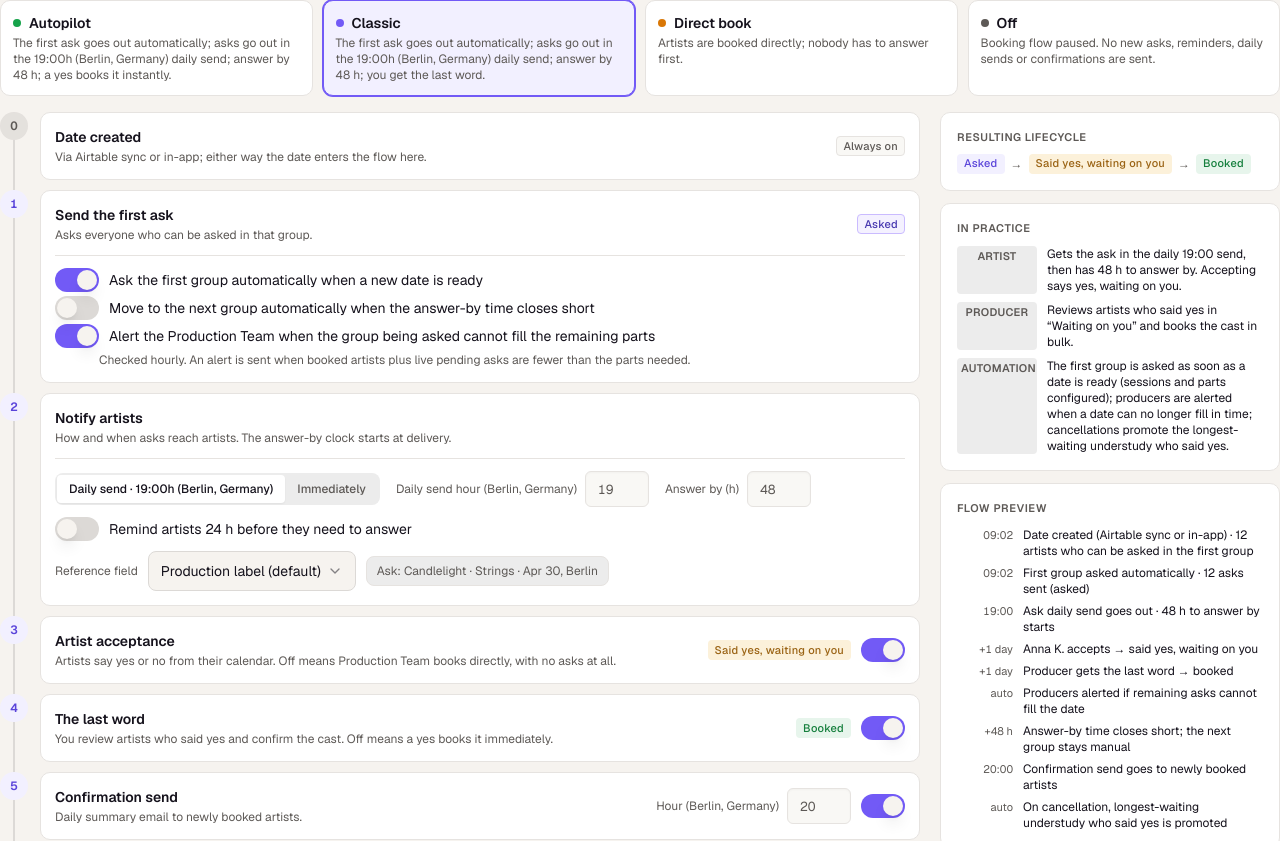
Test: BookingFlowTab › a preset's producer_confirmation choice survives an acceptance off/on round trip
Click the button "Autopilot" at x=156, y=48, box top-left (0, 0), bottom-right (312, 96)
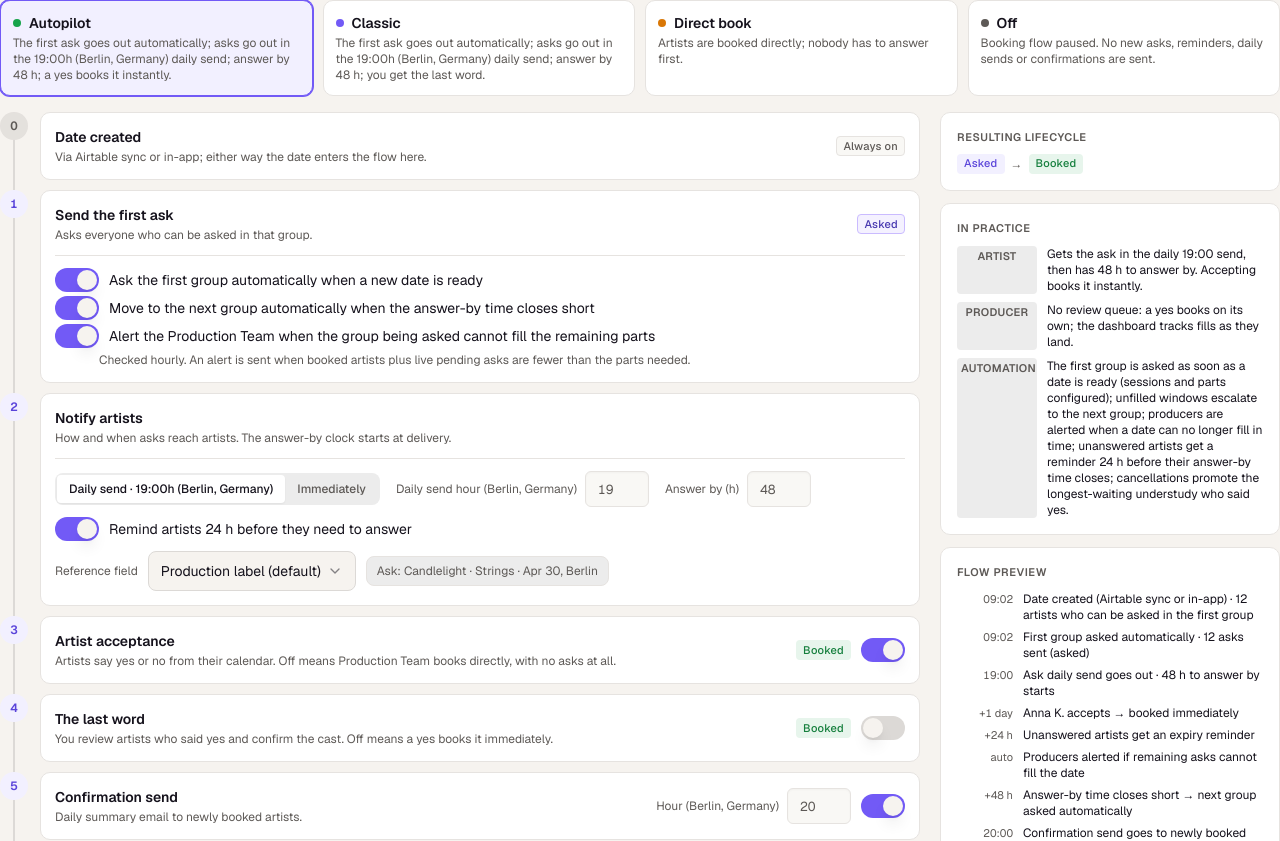
Expected: the switch named "the last word" is not checked, top-left (861, 716), bottom-right (905, 740)
Click the button "Direct book" at x=801, y=48, box top-left (645, 0), bottom-right (958, 96)
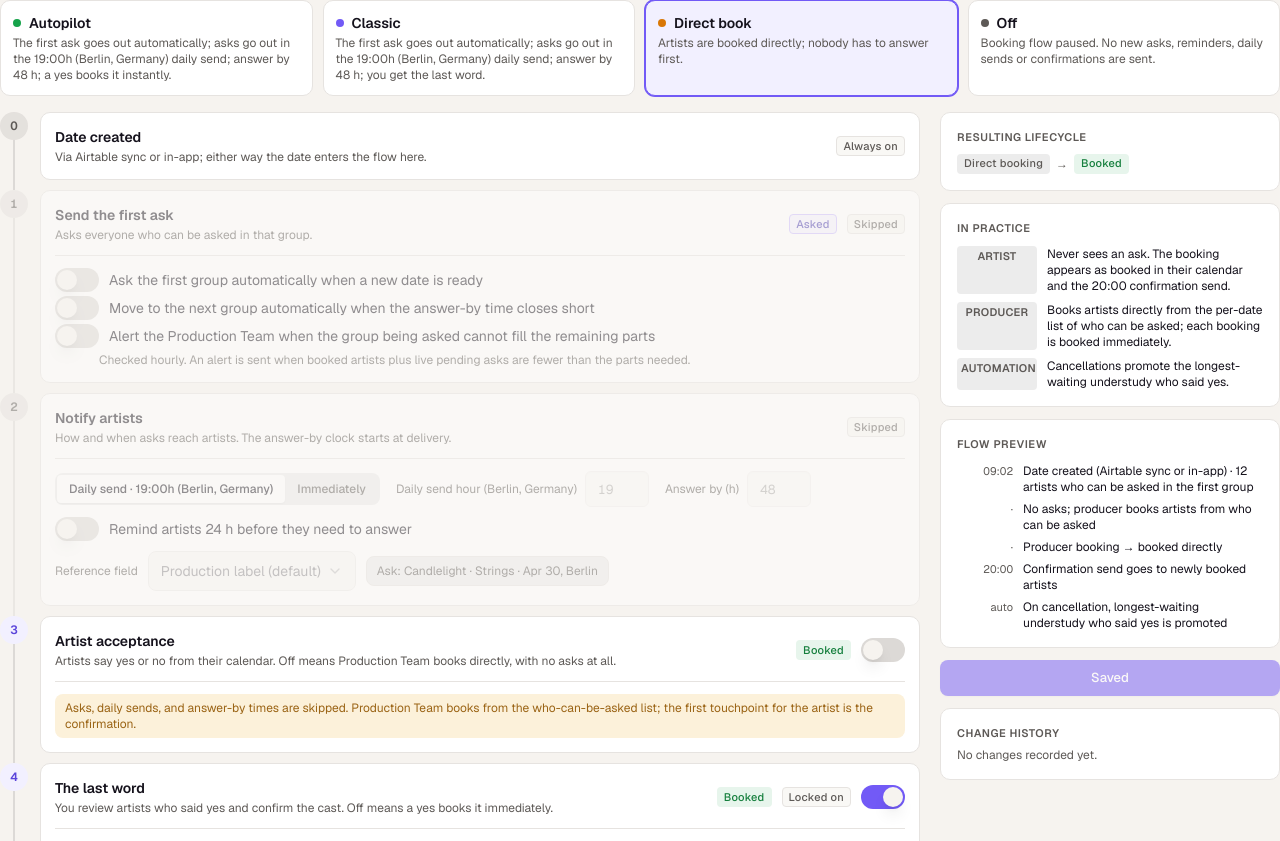
Click the switch named "artist acceptance" at x=883, y=650, box top-left (861, 638), bottom-right (905, 662)
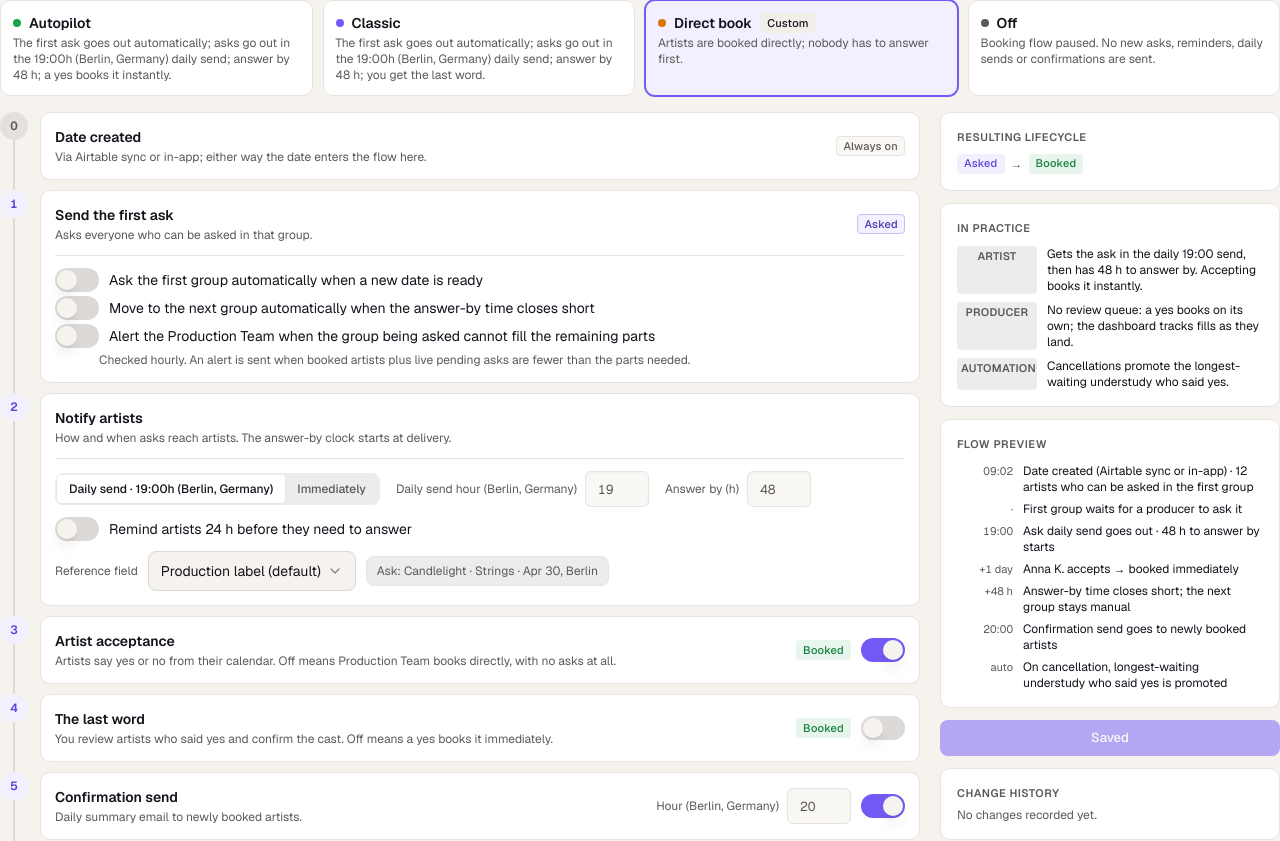
Expected: the switch named "the last word" is not checked, top-left (861, 716), bottom-right (905, 740)
